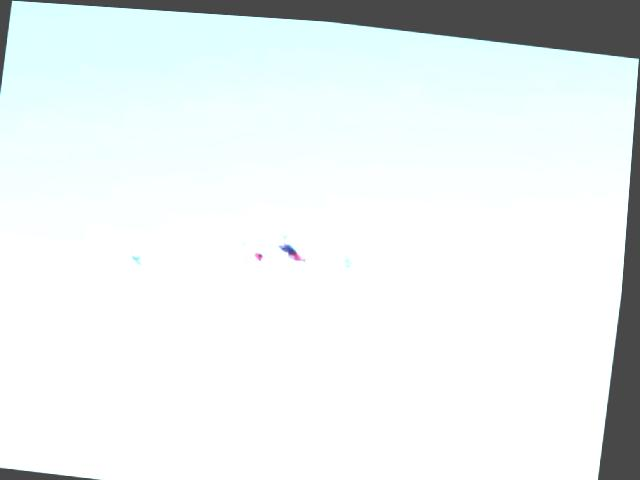uav: (246, 220, 320, 272)
